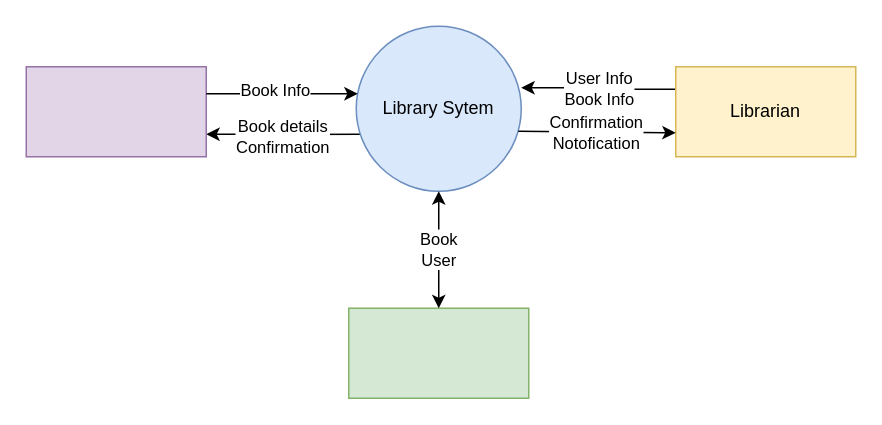
Some shapes in this 882 by 425 pixel diagram are drawn without their labels. Each missing label, with the centre of its shape:
Database: the point at 438,352
Member: the point at 115,111
